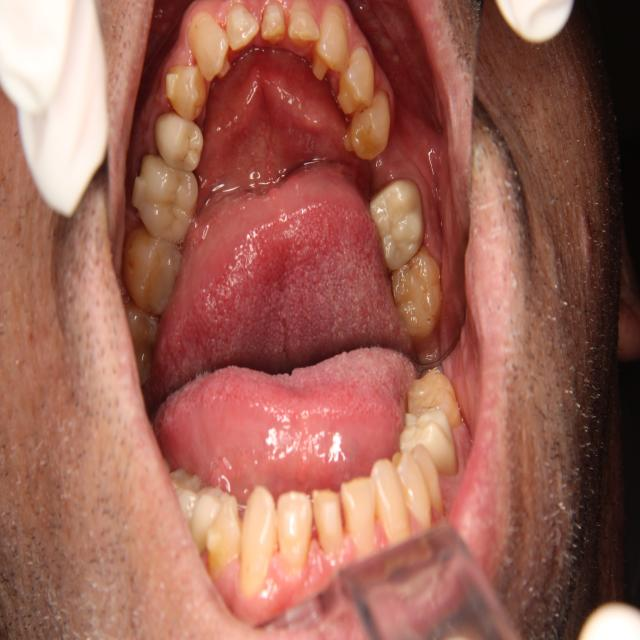tooth: (129, 149, 201, 248), (121, 220, 184, 321), (365, 174, 428, 273), (389, 243, 444, 339), (118, 298, 162, 393), (340, 86, 395, 162), (148, 105, 209, 173), (305, 1, 352, 87), (186, 5, 234, 86), (333, 42, 381, 117), (164, 60, 210, 122), (285, 0, 322, 56), (224, 2, 262, 55), (258, 0, 289, 49)
